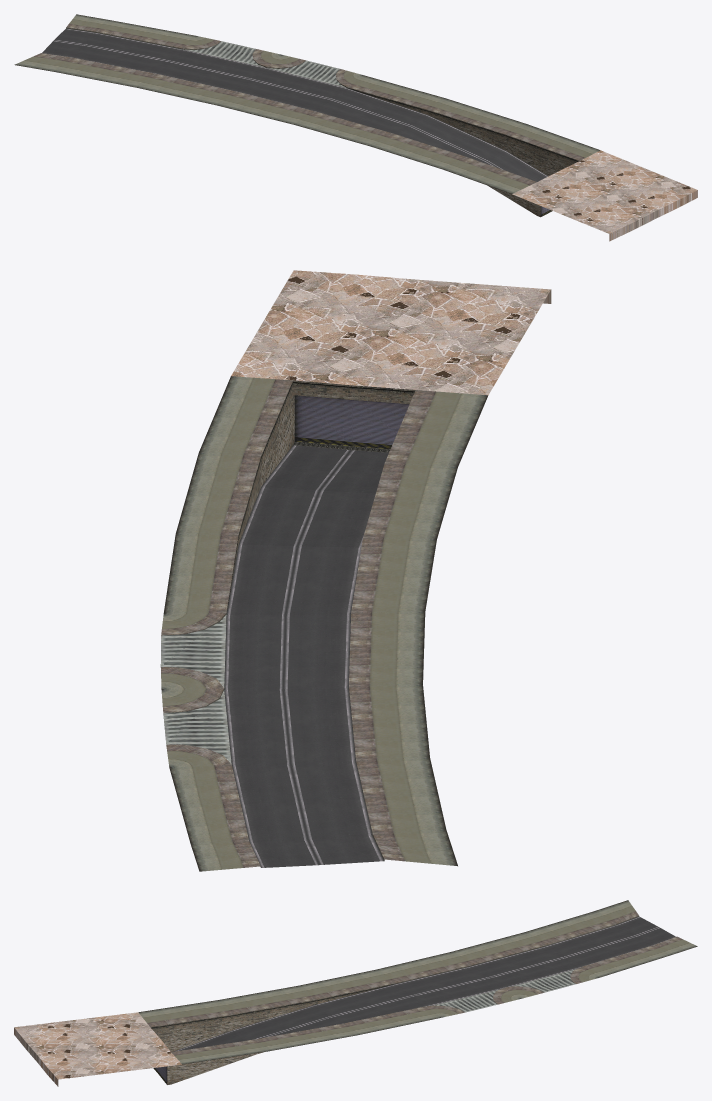
Rendered from pinkcarparkrd1b_sfs.obj.
The picture shows the model from 3 angles, top to bottom: view 1: azimuth 30°, elevation 25°; view 2: azimuth 150°, elevation 25°; view 3: azimuth 270°, elevation 25°; orthographic projection. The views are drawn at different scales.
Parts seen in each view (by area): view 1: pinkcarparkrd1b_SFS; view 2: pinkcarparkrd1b_SFS; view 3: pinkcarparkrd1b_SFS.
Part boxes in pixels (left/top/right/bottom): pinkcarparkrd1b_SFS: left=14, top=14, right=697, bottom=241; pinkcarparkrd1b_SFS: left=160, top=270, right=551, bottom=871; pinkcarparkrd1b_SFS: left=14, top=900, right=697, bottom=1086.
Size of the model in its own units: 70.93 by 6.04 by 114.
7 materials, 7 textured.
